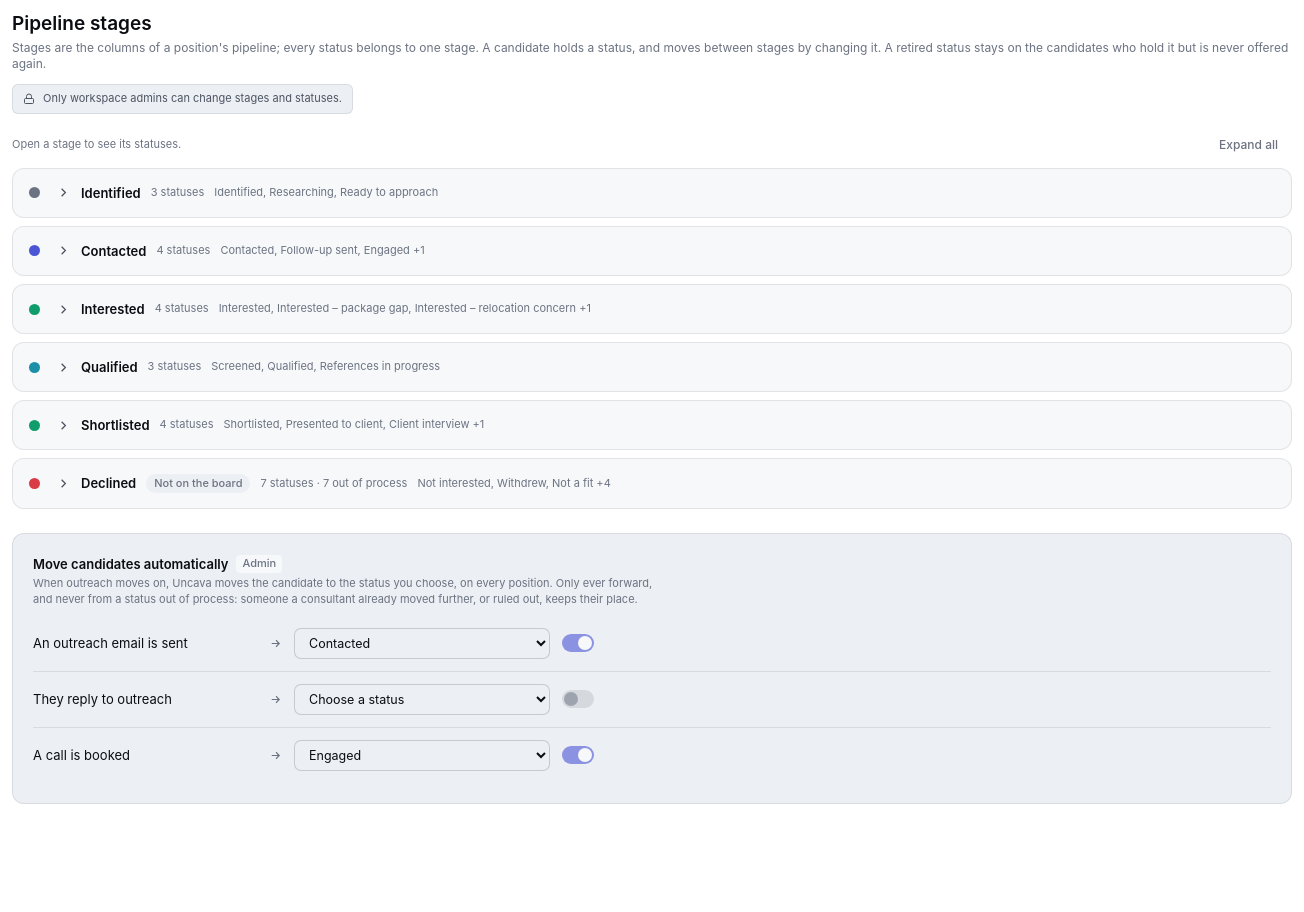
Test: PipelineStagesPage › is read-only for a member who is not an admin
The image size is (1304, 912).
Check: the element "Identified" is shown, box [12,168,1292,218]
Check: the text "Only workspace admins can change stages and statuses." is shown, box [12,84,353,114]
Click the button with aria-label "Show statuses".
click(111, 193)  # box [50,177,1275,209]
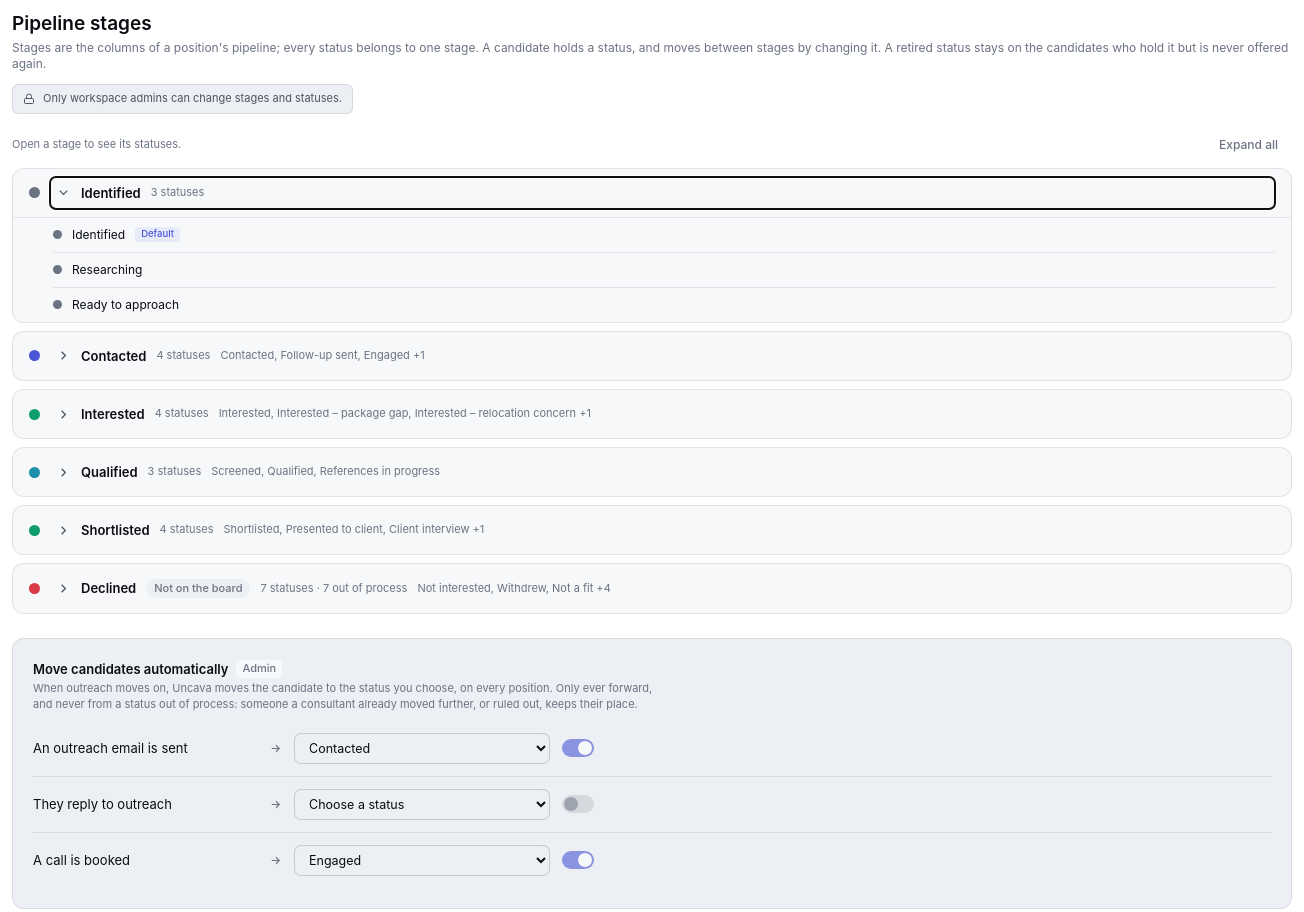
Check: the list item "Identified Default" is shown, box [53,227,180,242]
